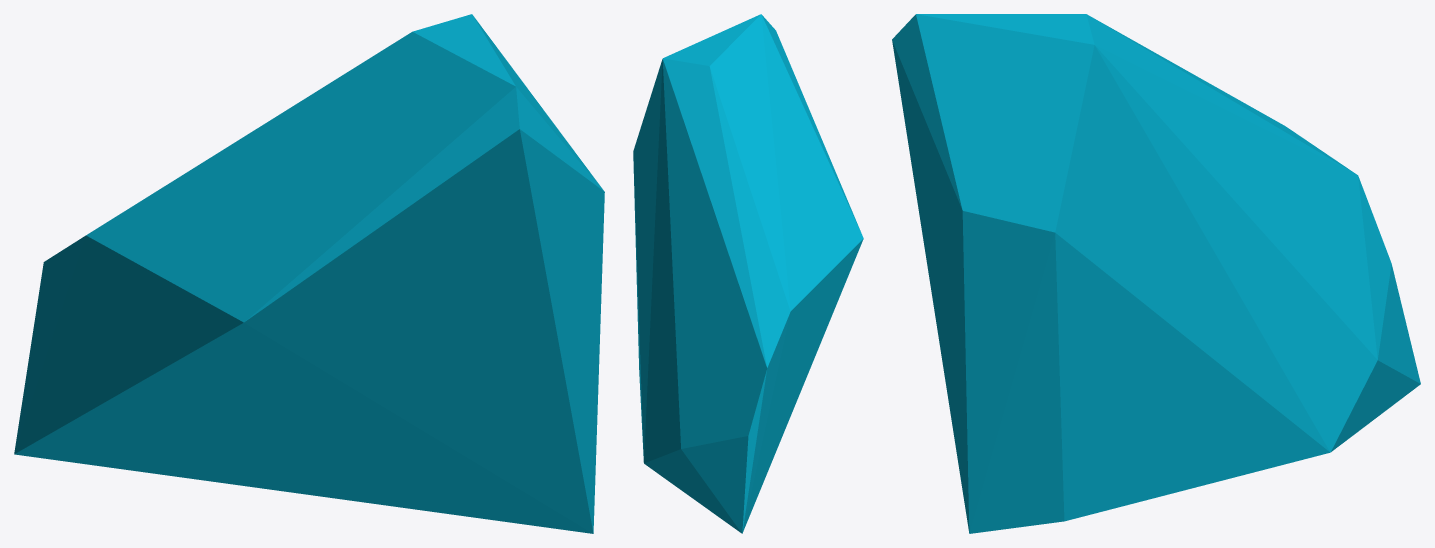
Rendered from shoulder-roll-housing-mirror_convex_piece_010.obj.
The picture shows the model from 3 angles, left to right: view 1: azimuth 30°, elevation 25°; view 2: azimuth 150°, elevation 25°; view 3: azimuth 270°, elevation 25°; orthographic projection. The views are drawn at different scales.
Size of the model in its own units: 0.029 by 0.0394 by 0.0393.
